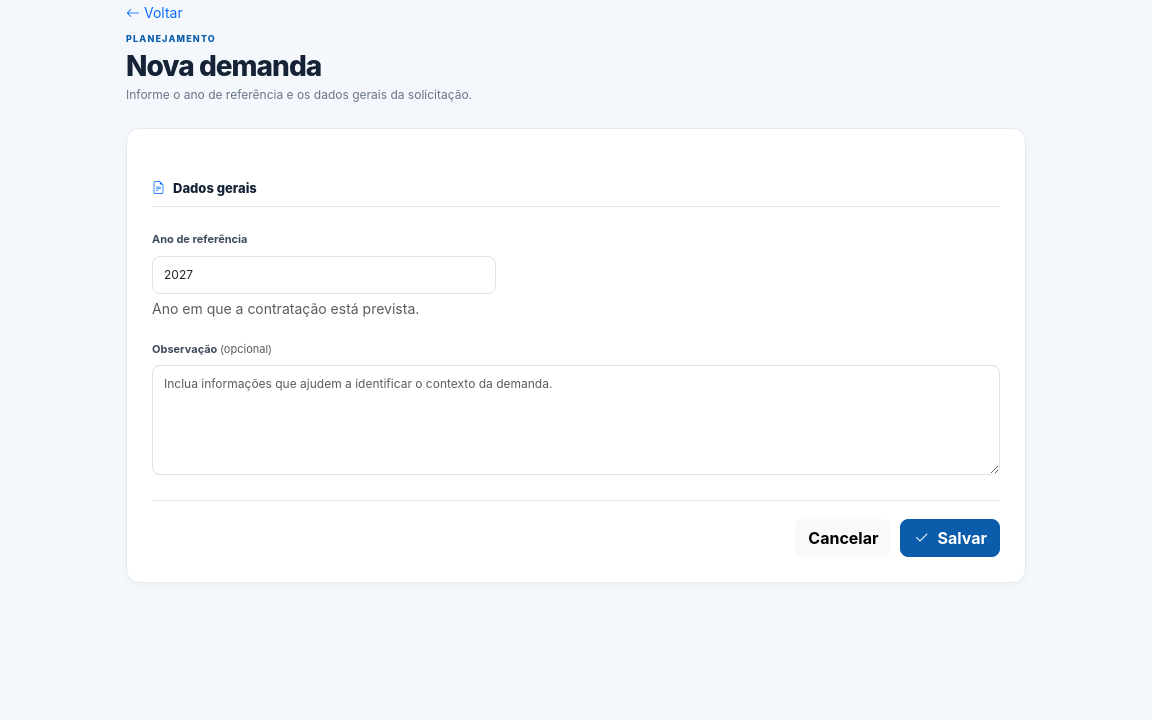
Scenario: DemandaForm › mostra erro quando a criação falha
Click the button "Salvar".
click(950, 538)  # box [900,519,1000,557]
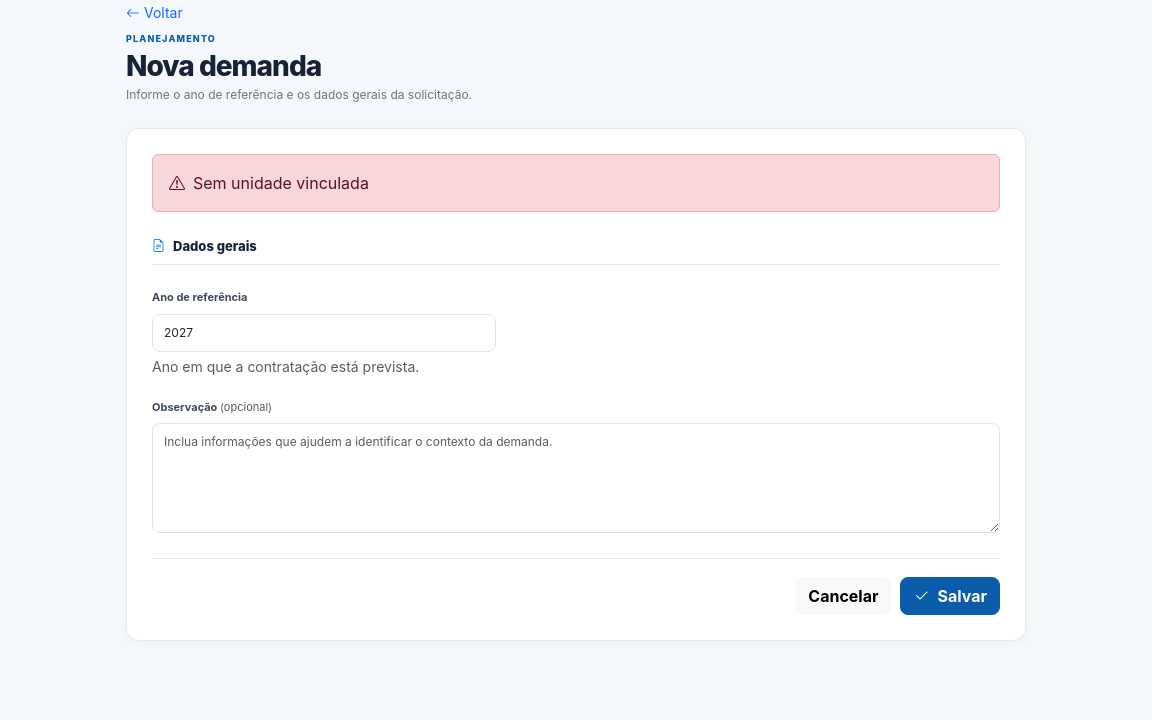
Expected: the text "Sem unidade vinculada" is shown, [152,154,1000,212]
